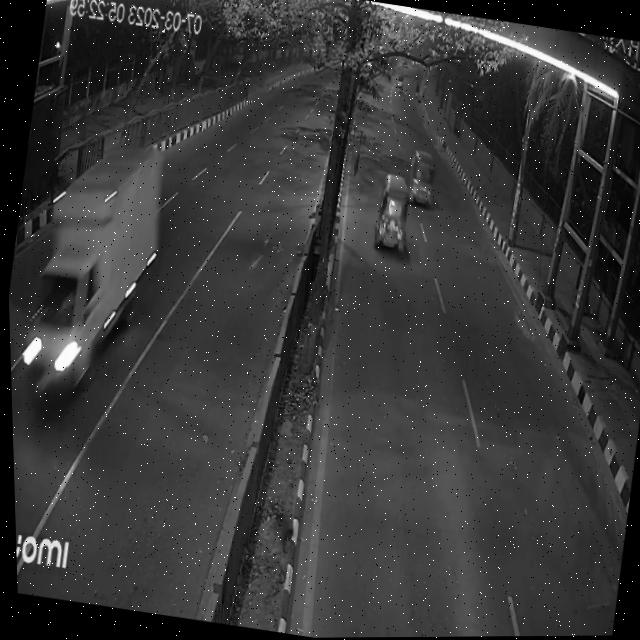cng: (369, 171, 412, 257), (402, 147, 438, 211)
